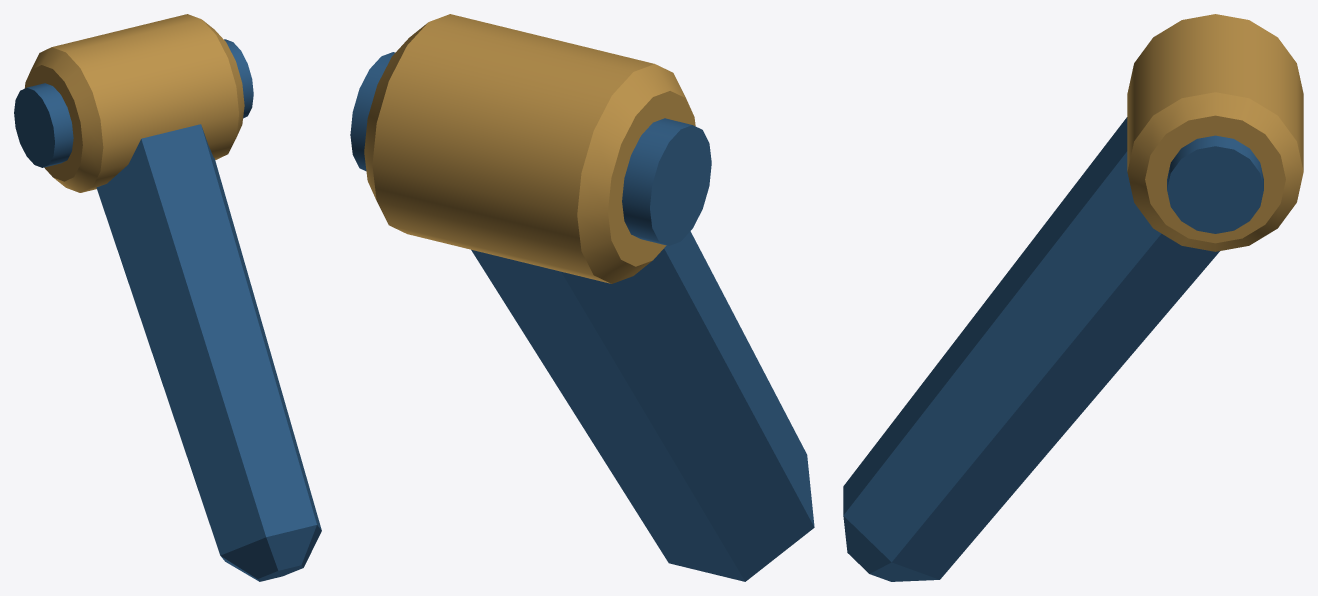
Rendered from rm2_tool_upper.obj.
3 renders of one model, left to right at view 1: azimuth 30°, elevation 25°; view 2: azimuth 150°, elevation 25°; view 3: azimuth 270°, elevation 25°, orthographic. The views are drawn at different scales.
Parts seen in each view (by area): view 1: rm2_tool_upper; view 2: rm2_tool_upper; view 3: rm2_tool_upper.
Boxes of the visible parts, x1=… form: rm2_tool_upper: x1=14, y1=14, x2=321, y2=581; rm2_tool_upper: x1=350, y1=14, x2=814, y2=581; rm2_tool_upper: x1=843, y1=14, x2=1303, y2=581.
Size of the model in its own units: 0.086 by 0.1831 by 0.1463.
